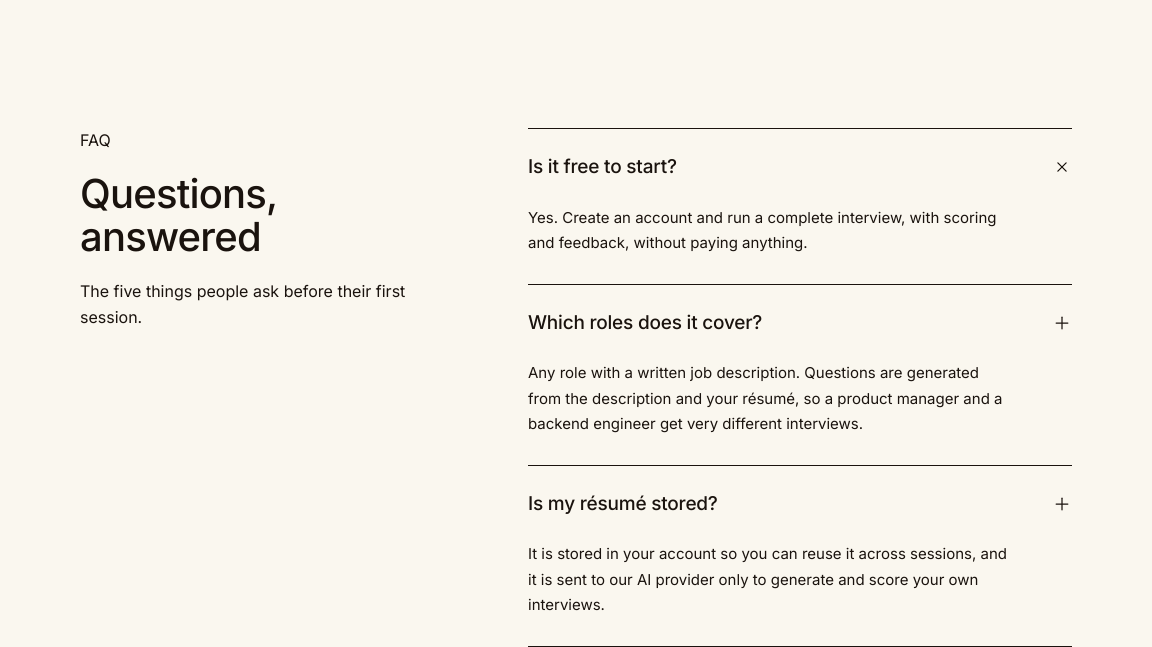
it: Faq › opens the first answer by default and keeps only one open at a time
What coordinates should you click on to do the following:
click the button "Which roles does it cover?"
I would click on:
 (645, 322)
Its box is [528,284,1072,360].
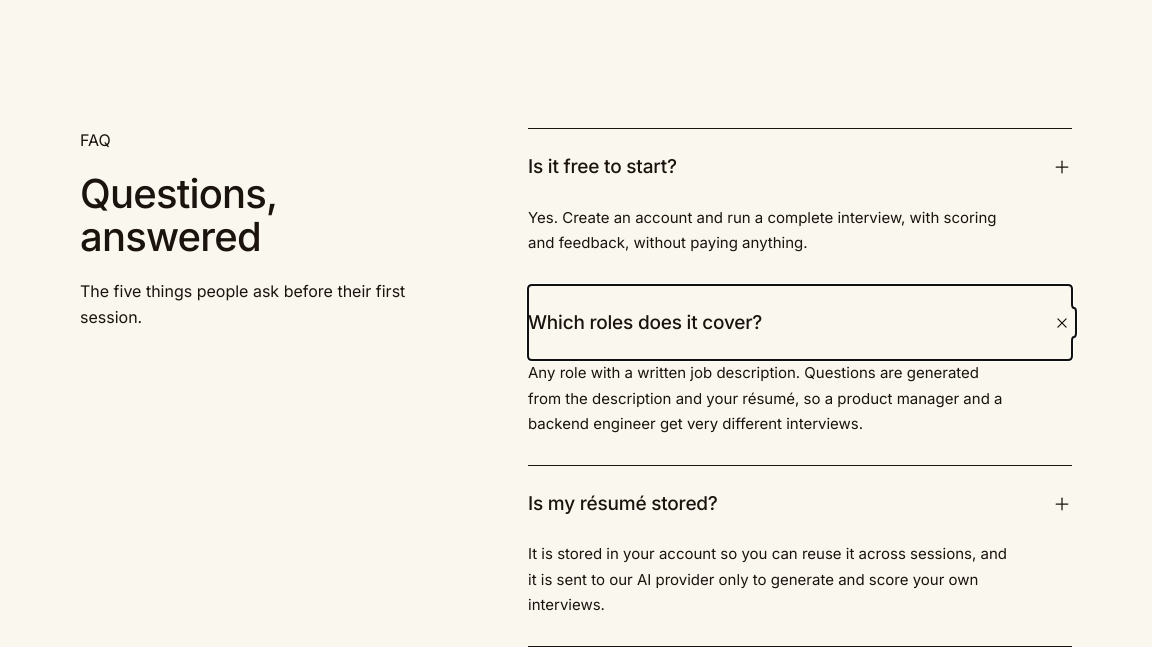
Result: the button "Is it free to start?" is collapsed at [528,129,1072,204]
Result: the button "Which roles does it cover?" is expanded
What coordinates should you click on to do the following:
click the button "Which roles does it cover?"
I would click on:
 (645, 322)
Its box is [528,284,1072,360].
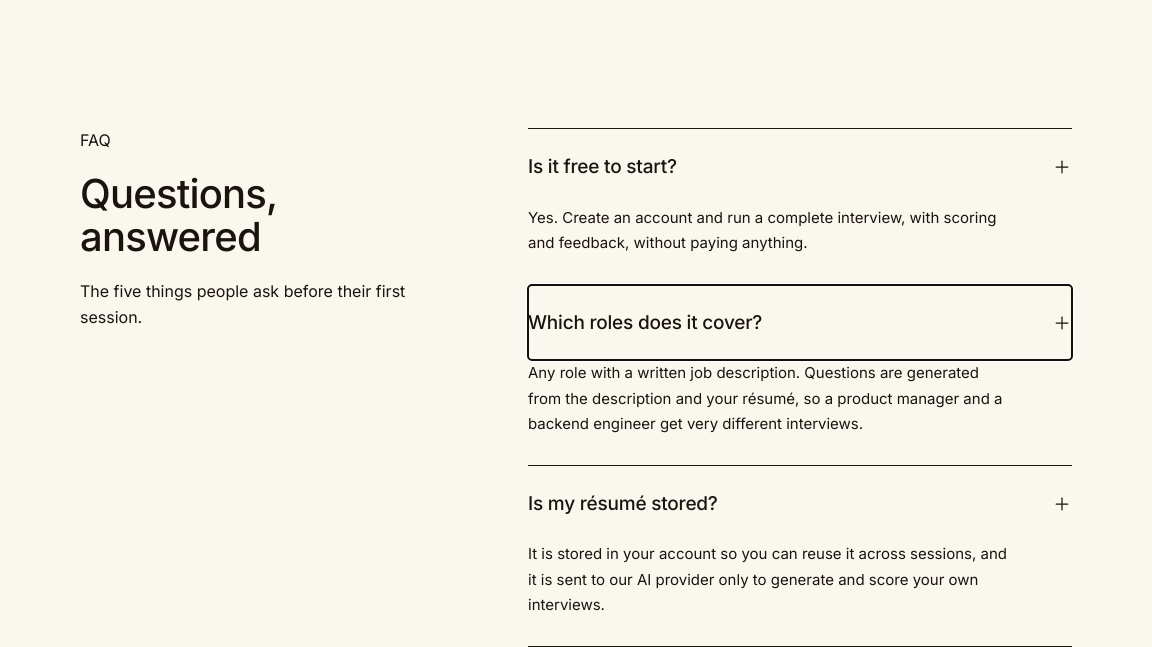
Result: the button "Which roles does it cover?" is collapsed at [528,284,1072,360]
